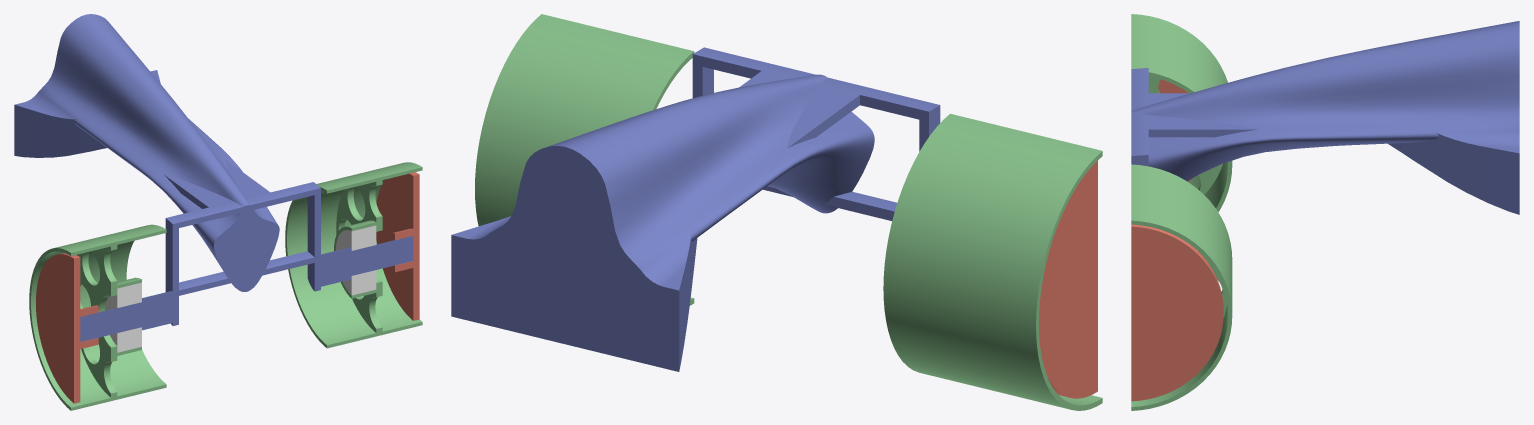
3 views of the same model, side by side, from view 1: azimuth 30°, elevation 25°; view 2: azimuth 150°, elevation 25°; view 3: azimuth 270°, elevation 25° (orthographic). The views are drawn at different scales.
Visible parts, largest first — view 1: Nase, Body2_node, Body2, Body1_node_1, Body1_node_0, Body1_node, Body1; view 2: Nase, Body2, Body2_node, Body1_node_1; view 3: Nase, Body1_node_0, Body2_node, Body2.
Boxes of the visible parts, <box> form: Nase: <box>14,14,413,341</box>; Body2_node: <box>285,162,422,348</box>; Body2: <box>29,224,166,410</box>; Body1_node_1: <box>36,253,98,403</box>; Body1_node_0: <box>376,172,419,320</box>; Body1_node: <box>335,225,376,295</box>; Body1: <box>105,282,141,352</box>; Nase: <box>451,47,940,371</box>; Body2: <box>883,113,1102,410</box>; Body2_node: <box>475,14,694,305</box>; Body1_node_1: <box>1039,160,1097,398</box>; Nase: <box>1131,21,1519,214</box>; Body1_node_0: <box>1131,224,1223,401</box>; Body2_node: <box>1131,164,1232,410</box>; Body2: <box>1131,14,1232,211</box>.
Bounding box in the file's own units: 57 × 36.49 × 45.23.
